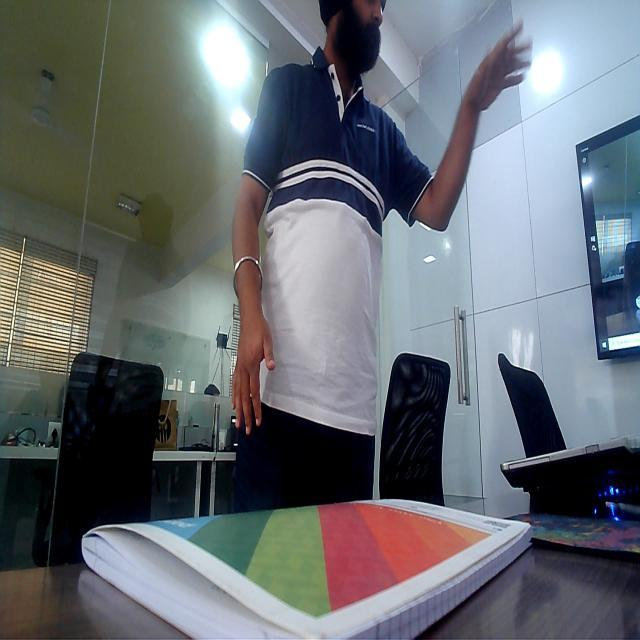without_gloves: (453, 2, 573, 109), (220, 300, 280, 450)
